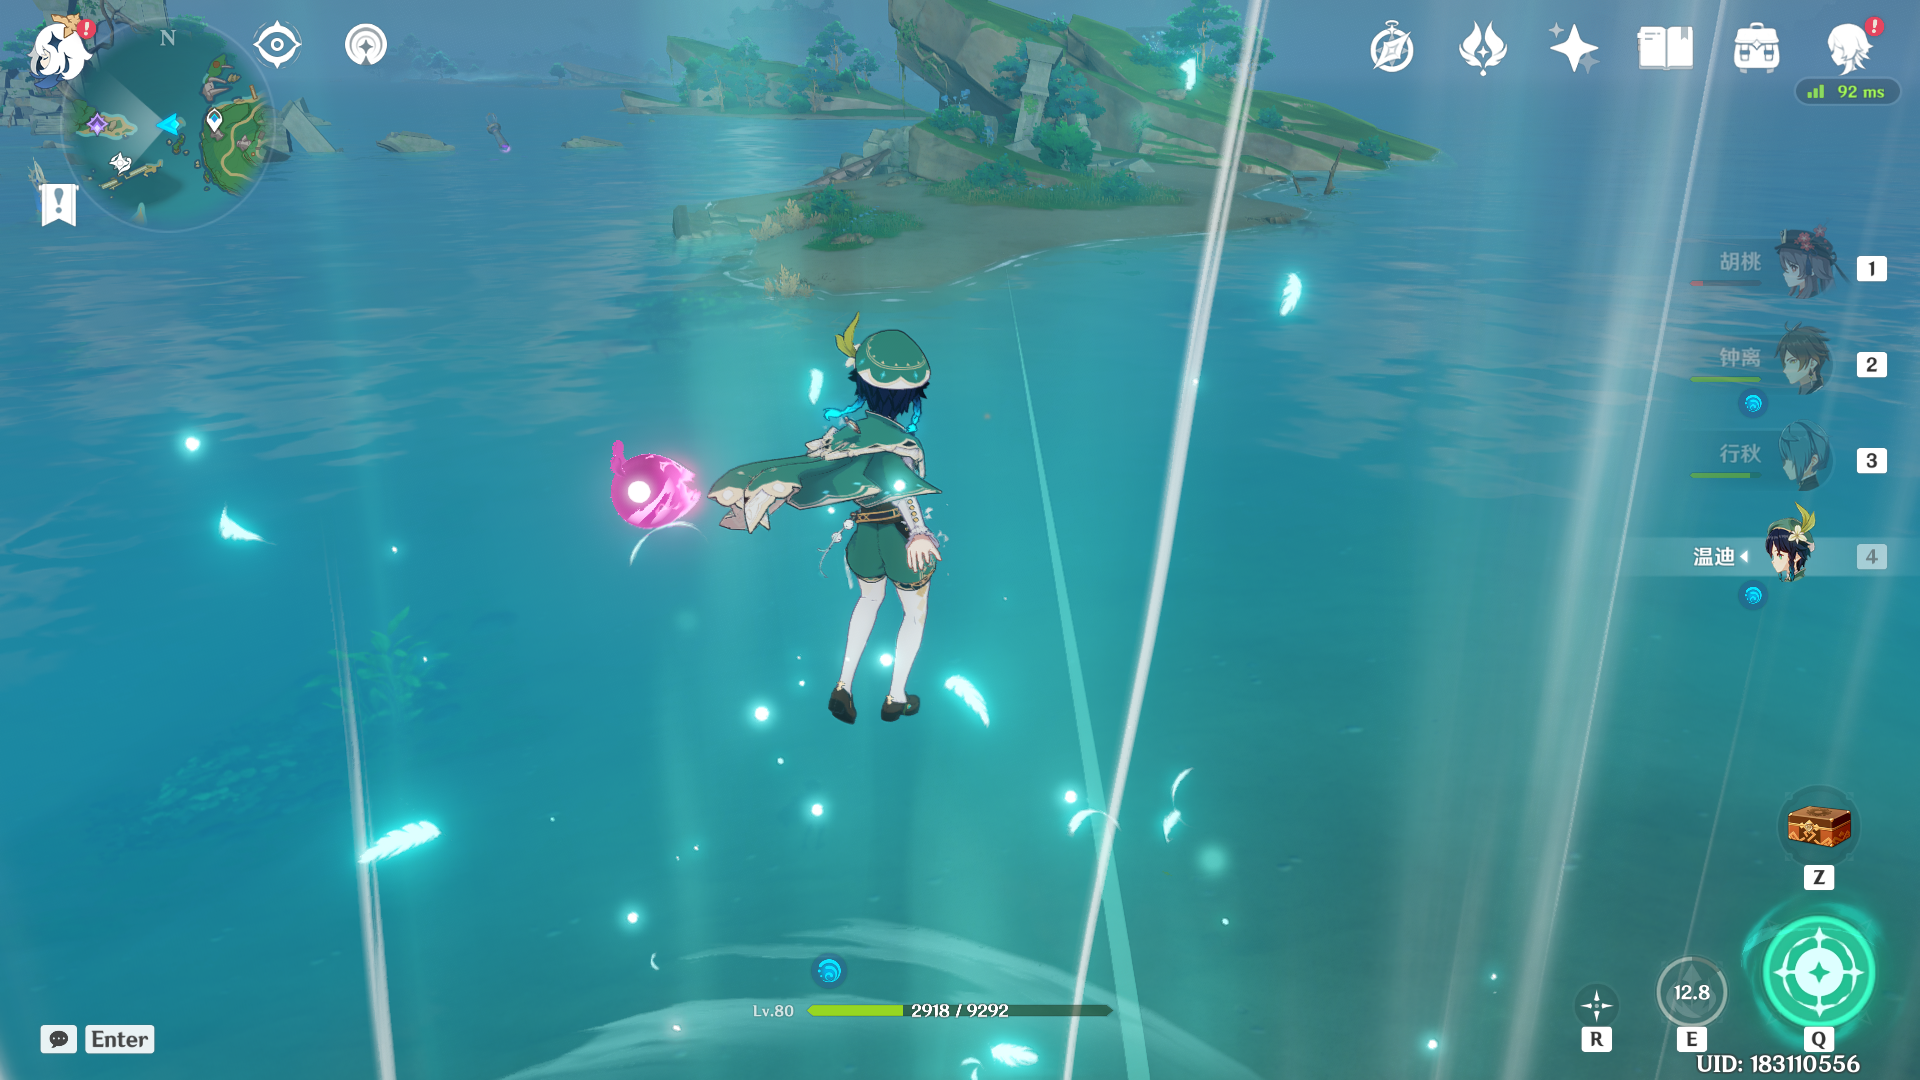character: (673, 277, 1018, 806)
